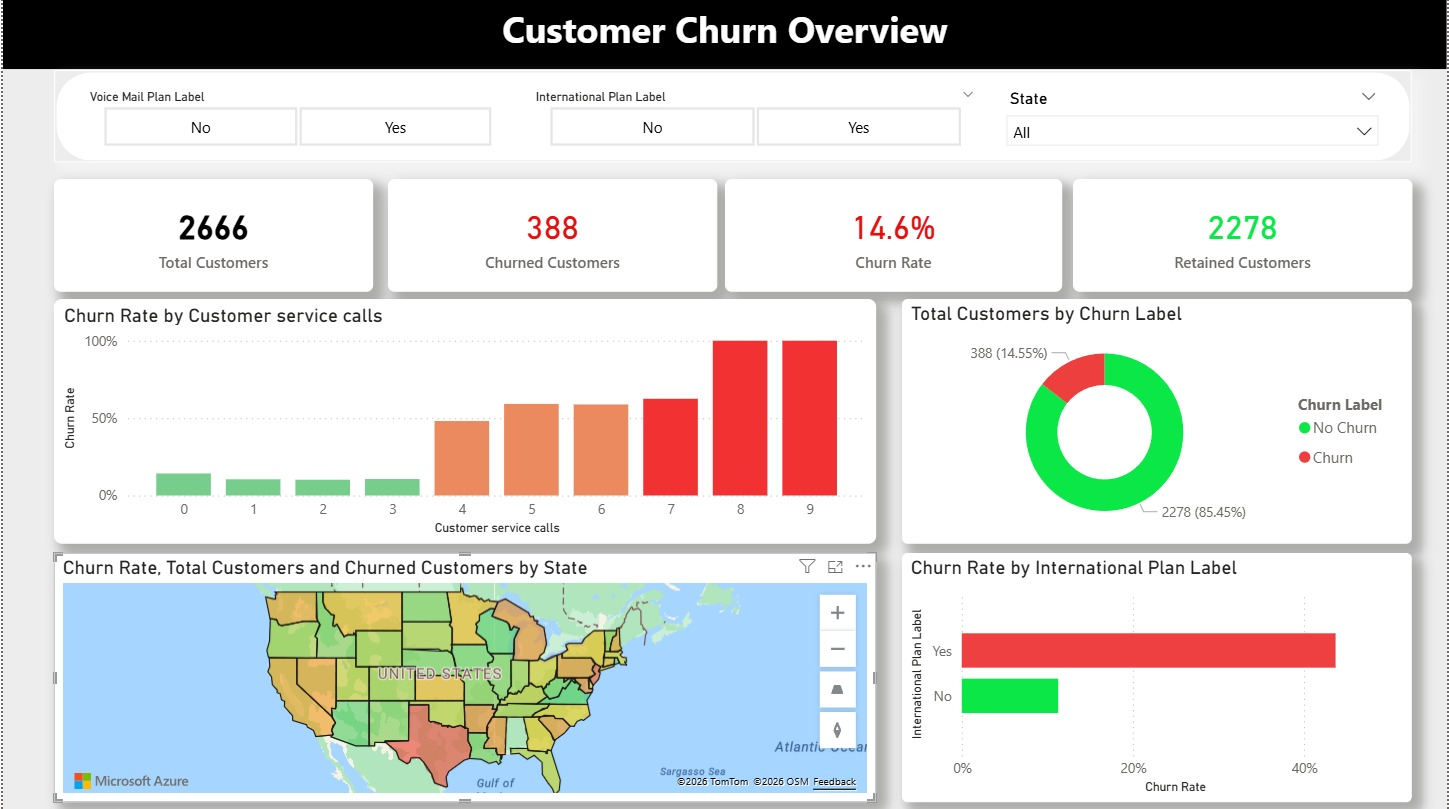

The dashboard page shown, as its layout file describes it:
{"tool":"powerbi","page":{"name":"Customer Churn","canvas":[1280,720],"ordinal":0},"visuals":[{"type":"card","fields":{"Values":["churn-bigml-80.Total Customers"]},"box":[45.2,160.5,282.9,100.2],"z":0},{"type":"card","fields":{"Values":["churn-bigml-80.Churned Customers"]},"box":[341.4,160.5,291.7,100.2],"z":1000},{"type":"card","fields":{"Values":["churn-bigml-80.Churn Rate"]},"box":[640.2,160.5,298.8,100.2],"z":2000},{"type":"card","fields":{"Values":["churn-bigml-80.Retained Customers"]},"box":[948.8,160.5,300.6,100.2],"z":3000},{"type":"textbox","box":[0,0,1280.4,63],"z":4000},{"type":"shape","box":[45.2,63.8,1204.1,82.5],"z":6000},{"type":"slicer","fields":{"Values":["churn-bigml-80.Voice Mail Plan Label"]},"box":[63,70.9,395.5,68.3],"z":7000},{"type":"slicer","fields":{"Values":["churn-bigml-80.International Plan Label"]},"box":[458.4,70.9,415.9,68.3],"z":8000},{"type":"clusteredColumnChart","fields":{"Y":["churn-bigml-80.Churn Rate"],"Category":["churn-bigml-80.Customer service calls"]},"box":[45.2,266.9,728.9,217.2],"z":9000},{"type":"donutChart","fields":{"Category":["churn-bigml-80.Churn Label"],"Y":["churn-bigml-80.Total Customers"]},"box":[797.1,266.9,452.2,217.2],"z":10000},{"type":"barChart","fields":{"Y":["churn-bigml-80.Churn Rate"],"Category":["churn-bigml-80.International Plan Label"]},"box":[797.1,492.1,452.2,220.8],"z":11000},{"type":"filledMap","fields":{"Category":["churn-bigml-80.State"]},"box":[45.2,492.1,728.9,220.8],"z":12000},{"type":"slicer","fields":{"Values":["churn-bigml-80.State"]},"box":[878.7,70.9,352,68.3],"z":13000}]}

Visuals, with their boxes in screenshot pixels (x1, y1, x2, y2), scaled from the page's 1280x720 canvas onto the 1449x809 screenshot:
card - churn-bigml-80.Total Customers: detection(51, 180, 371, 293)
card - churn-bigml-80.Churned Customers: detection(386, 180, 717, 293)
card - churn-bigml-80.Churn Rate: detection(725, 180, 1063, 293)
card - churn-bigml-80.Retained Customers: detection(1074, 180, 1414, 293)
textbox: detection(0, 0, 1448, 71)
shape: detection(51, 72, 1414, 164)
slicer - churn-bigml-80.Voice Mail Plan Label: detection(71, 80, 519, 156)
slicer - churn-bigml-80.International Plan Label: detection(519, 80, 990, 156)
clusteredColumnChart - churn-bigml-80.Churn Rate x churn-bigml-80.Customer service calls: detection(51, 300, 876, 544)
donutChart - churn-bigml-80.Churn Label x churn-bigml-80.Total Customers: detection(902, 300, 1414, 544)
barChart - churn-bigml-80.Churn Rate x churn-bigml-80.International Plan Label: detection(902, 553, 1414, 801)
filledMap - churn-bigml-80.State: detection(51, 553, 876, 801)
slicer - churn-bigml-80.State: detection(995, 80, 1393, 156)
